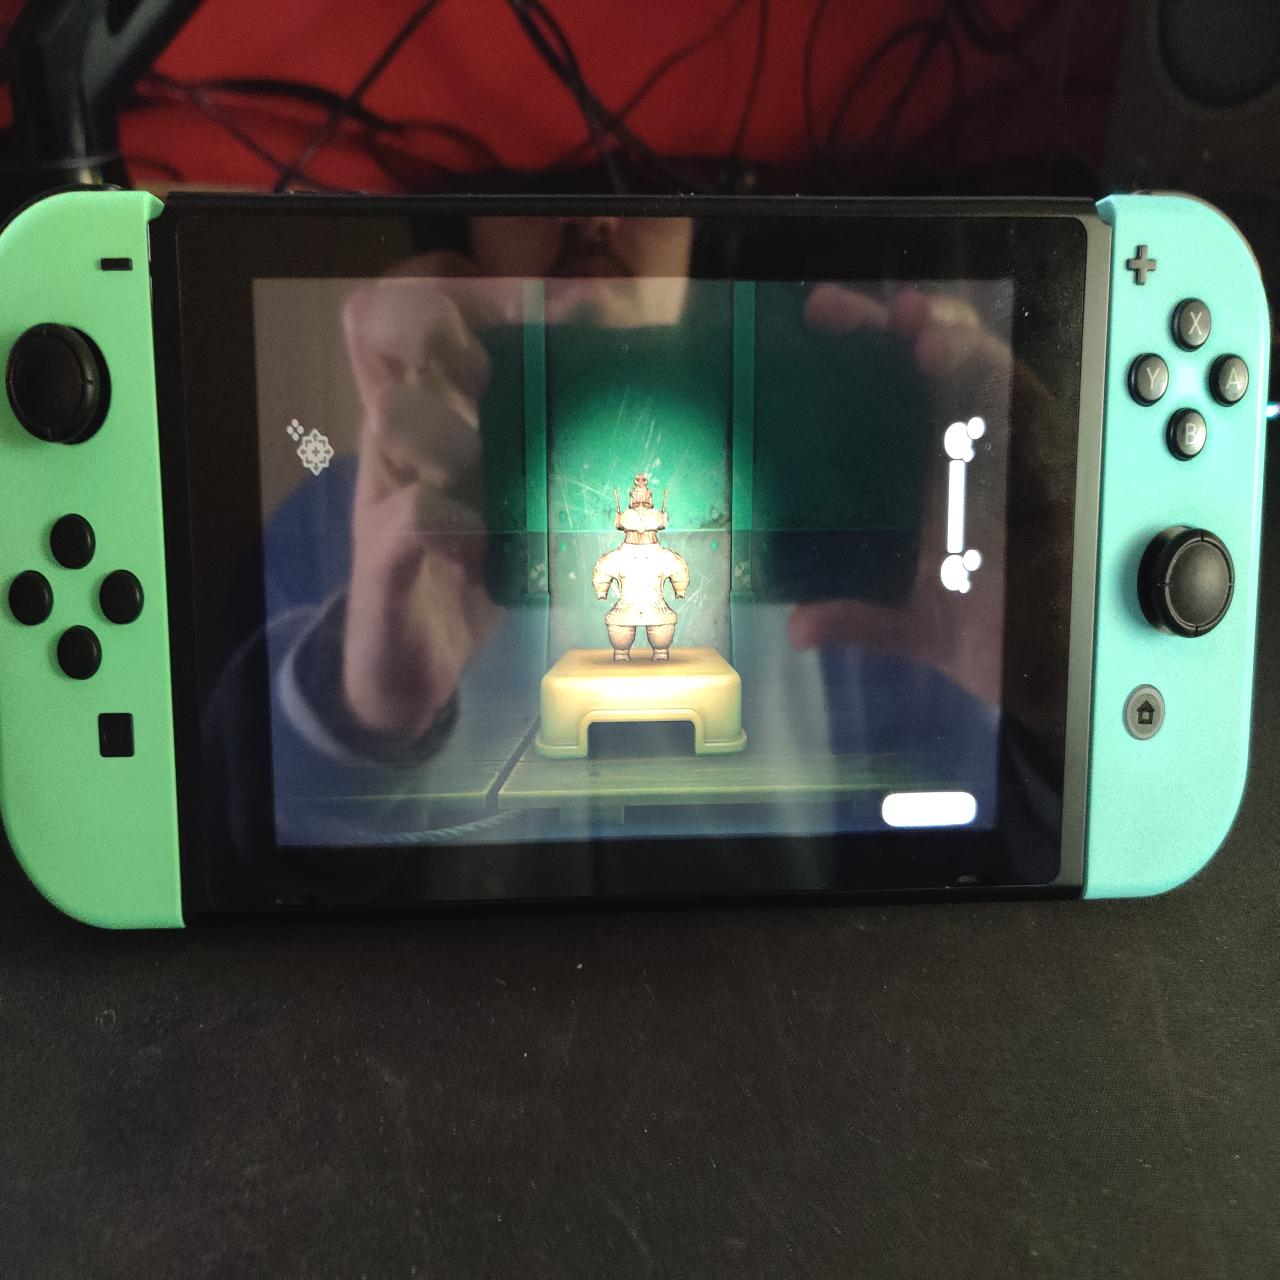DoguuFake: (593, 472, 697, 668)
